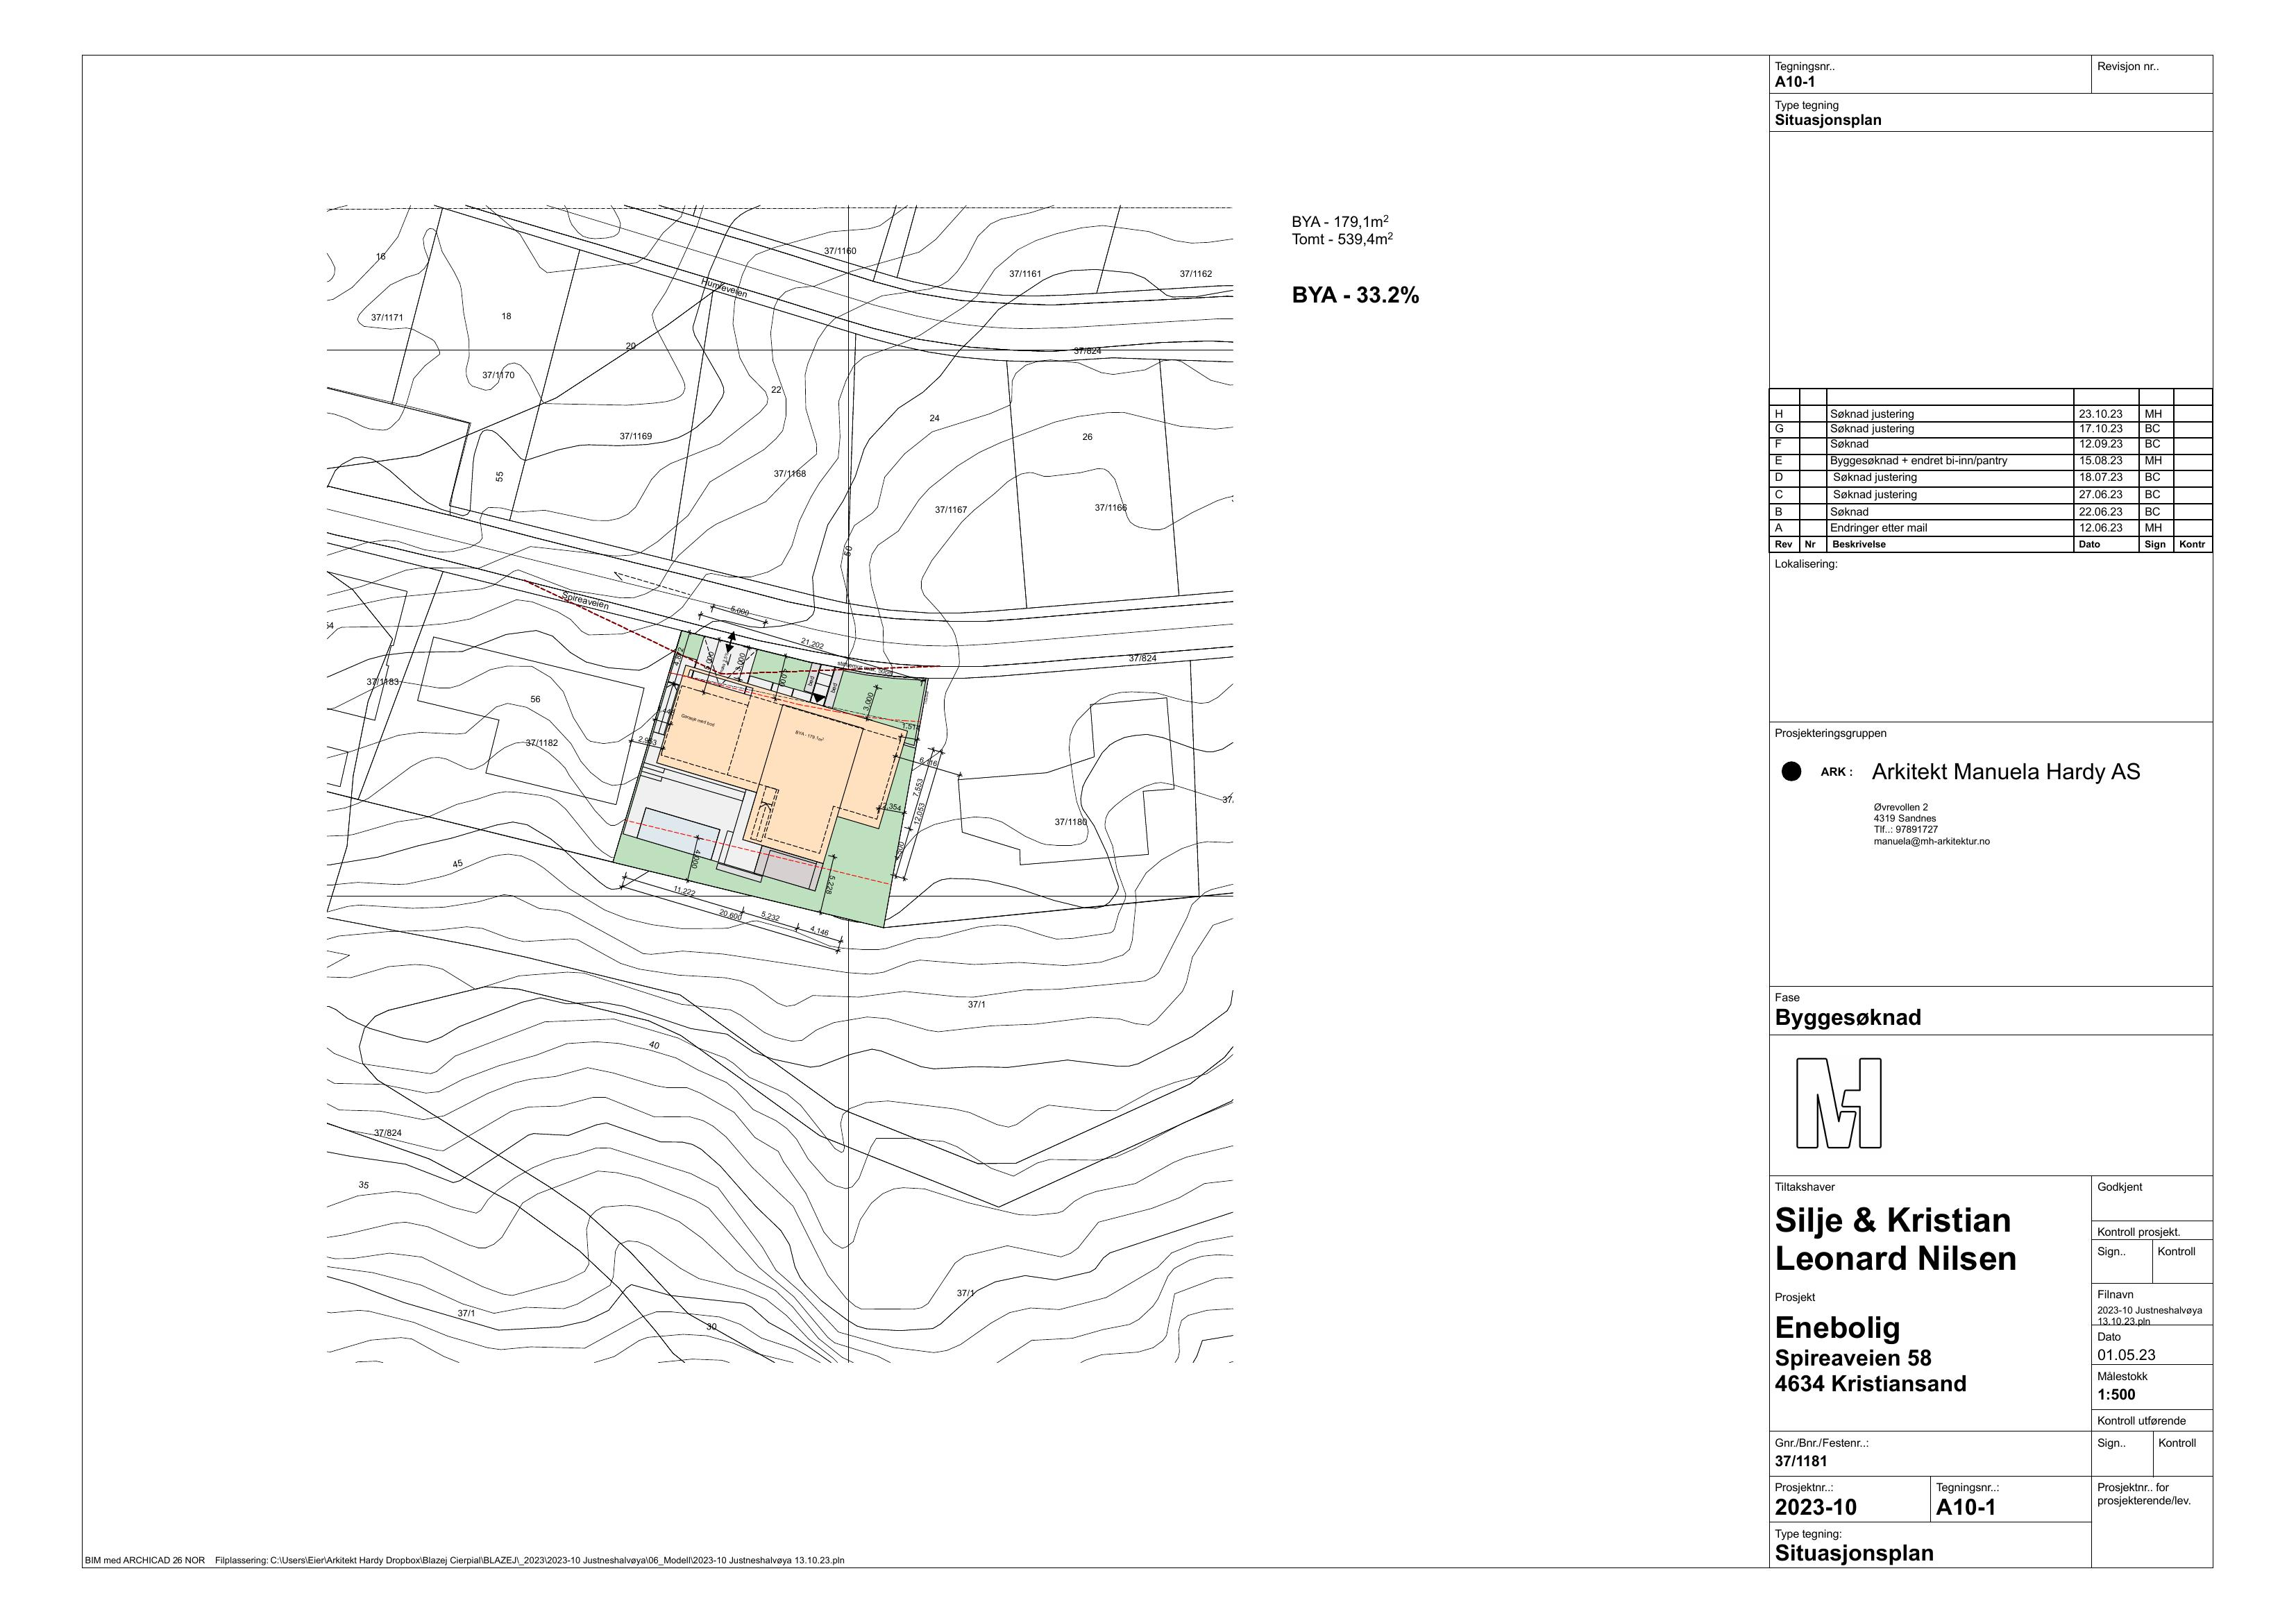situasjonskart: (325, 201, 1243, 1372)
